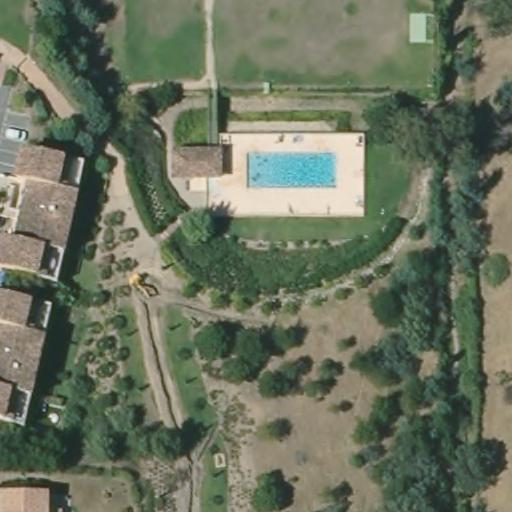pool: (241, 145, 343, 192)
